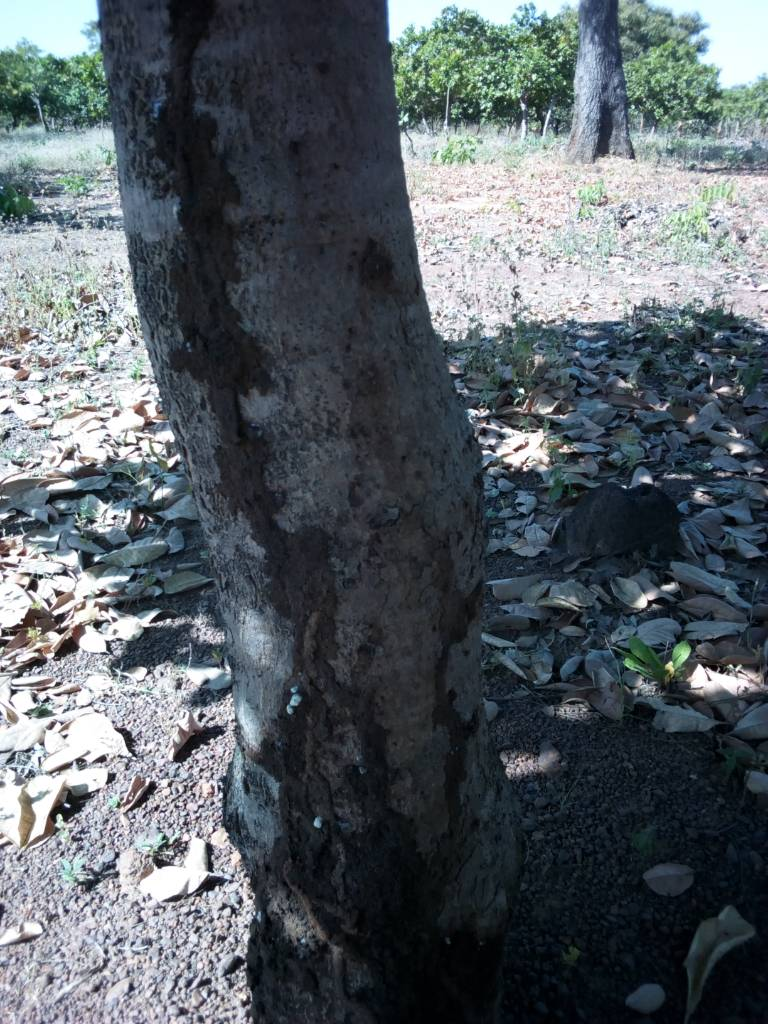Termites: (269, 546, 496, 939), (165, 49, 304, 517)
